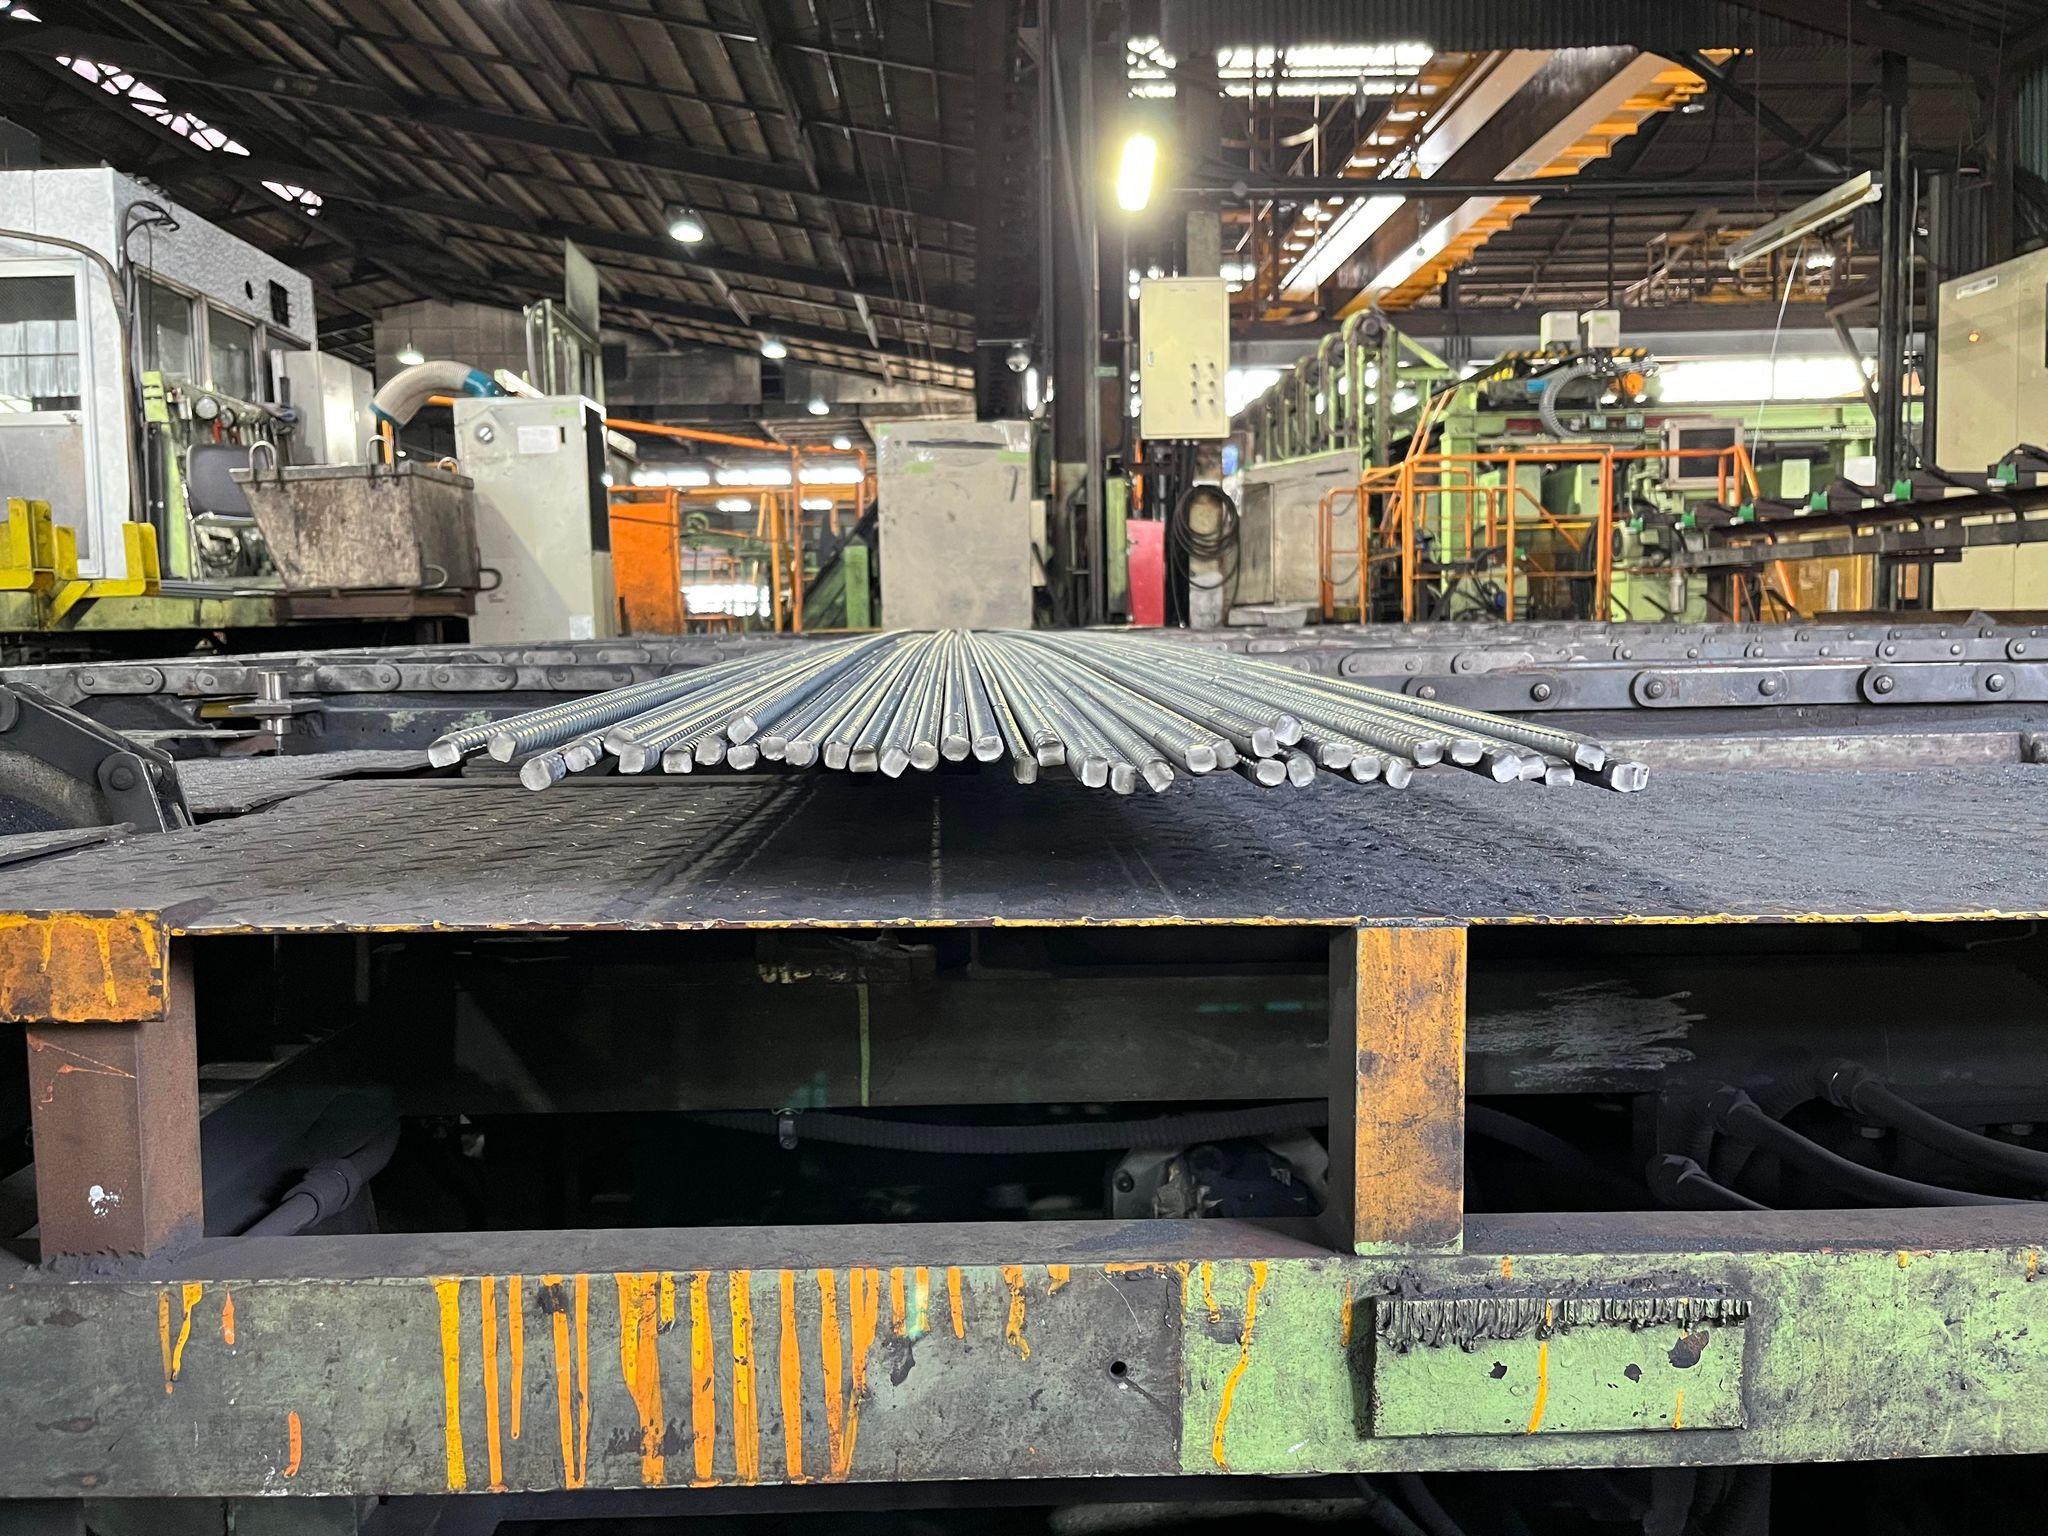rod: (618, 741, 656, 776), (1274, 708, 1306, 749), (518, 757, 553, 792), (726, 710, 761, 745), (693, 733, 727, 770), (1142, 760, 1177, 794), (1488, 752, 1524, 786), (1572, 739, 1608, 773), (1608, 762, 1643, 795), (426, 737, 461, 770), (1184, 741, 1219, 773), (1285, 753, 1317, 789), (601, 724, 635, 757), (660, 744, 693, 776), (940, 731, 972, 765), (971, 733, 1005, 765), (1350, 752, 1384, 784), (880, 744, 911, 779), (1037, 734, 1068, 770), (1448, 737, 1485, 766), (1413, 737, 1445, 770), (784, 737, 818, 768), (847, 744, 880, 774), (563, 745, 598, 774), (1109, 762, 1138, 797), (910, 739, 940, 771), (1250, 728, 1280, 760), (489, 729, 518, 763), (821, 737, 850, 771), (1080, 755, 1109, 789), (1321, 741, 1355, 770), (1011, 752, 1039, 787), (1385, 755, 1413, 791), (1255, 758, 1285, 789), (1521, 750, 1546, 786), (726, 745, 760, 771), (1546, 760, 1576, 789), (1214, 737, 1238, 771), (760, 736, 785, 763)
